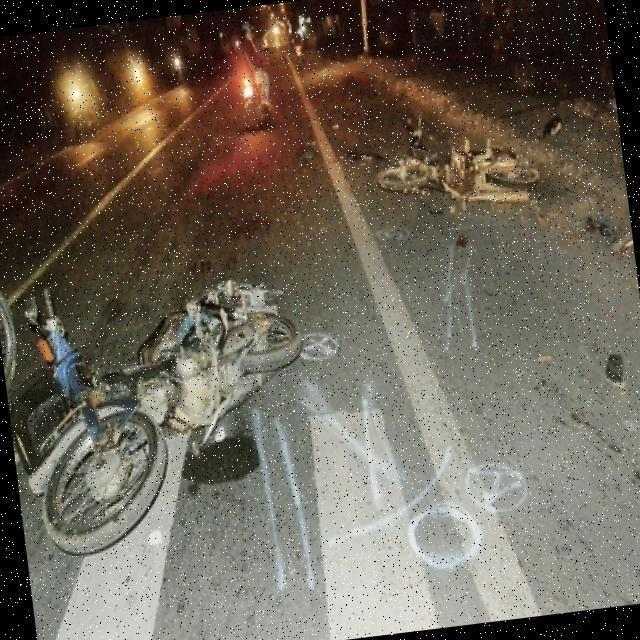accident: (0, 225, 337, 551), (360, 74, 554, 246)
